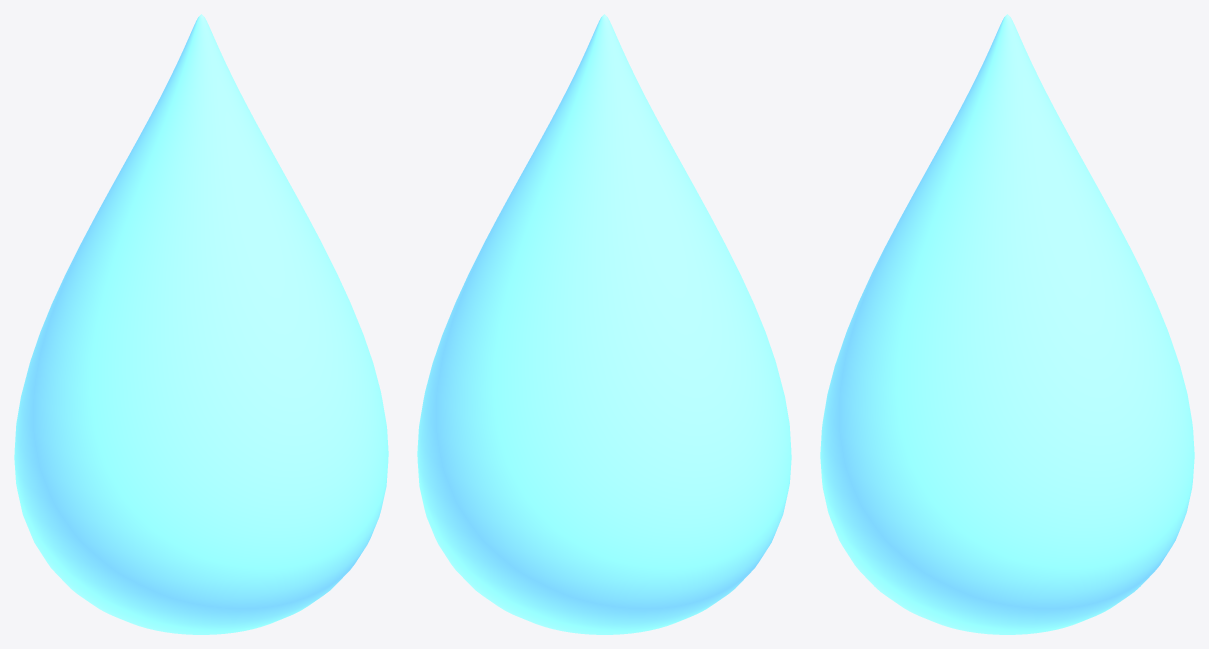
File: player_1.glb
The picture shows the model from 3 angles, left to right: view 1: azimuth 30°, elevation 25°; view 2: azimuth 150°, elevation 25°; view 3: azimuth 270°, elevation 25°; orthographic projection.
Visible parts, largest first — view 1: 球体.001; view 2: 球体.001; view 3: 球体.001.
Boxes of the visible parts, x1=… form: 球体.001: x1=14, y1=14, x2=388, y2=634; 球体.001: x1=417, y1=14, x2=791, y2=634; 球体.001: x1=820, y1=14, x2=1194, y2=634.
Bounding box in the file's own units: 0.8185 × 1.45 × 0.8185.
